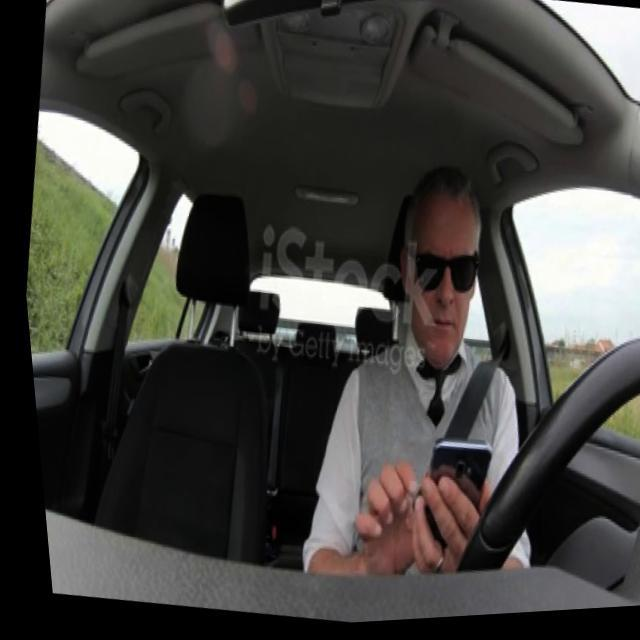PhoneCall: (406, 439, 488, 546)
